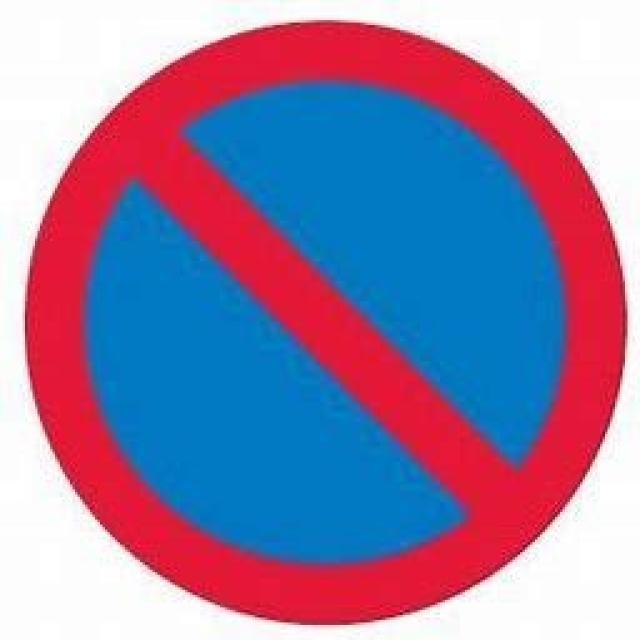no parking: (20, 18, 628, 625)
